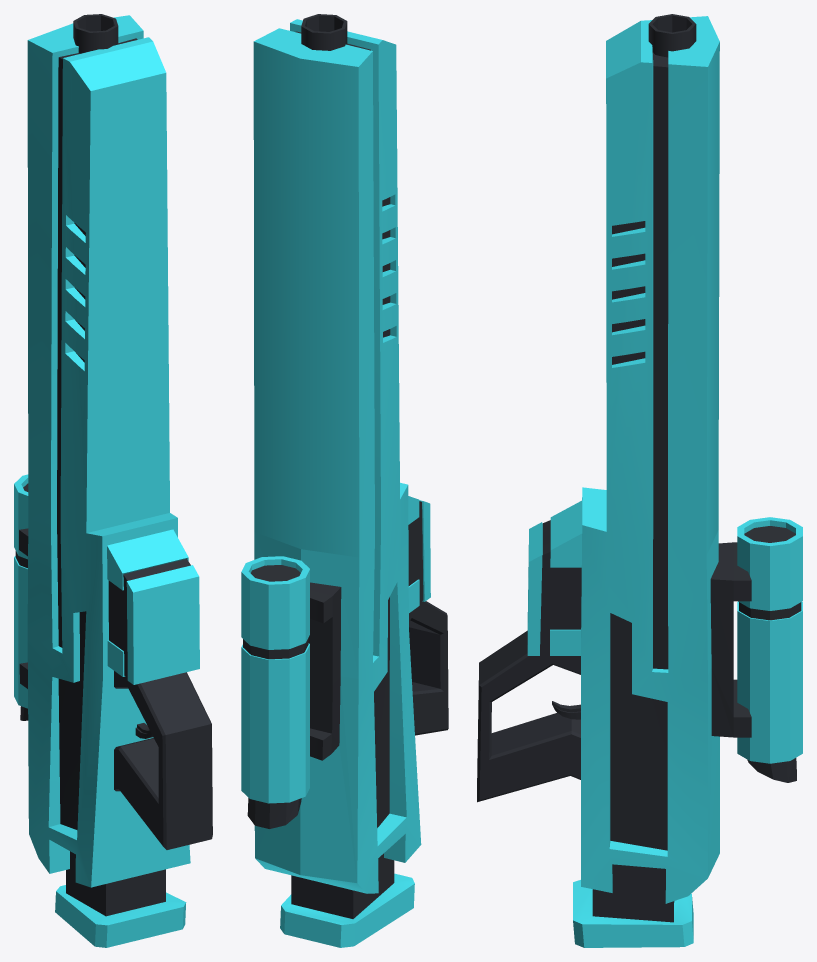
The model's file is low poly scifi gun010.fbx.
3 views of the same model, side by side, from view 1: azimuth 30°, elevation 25°; view 2: azimuth 150°, elevation 25°; view 3: azimuth 270°, elevation 25° (orthographic). The views are drawn at different scales.
Visible parts, largest first — view 1: low poly scifi gun010; view 2: low poly scifi gun010; view 3: low poly scifi gun010.
Boxes of the visible parts, x1=… form: low poly scifi gun010: x1=14, y1=14, x2=212, y2=947; low poly scifi gun010: x1=241, y1=14, x2=448, y2=947; low poly scifi gun010: x1=477, y1=14, x2=802, y2=947.
Size of the model in its own units: 3.2 by 26.48 by 8.64.
